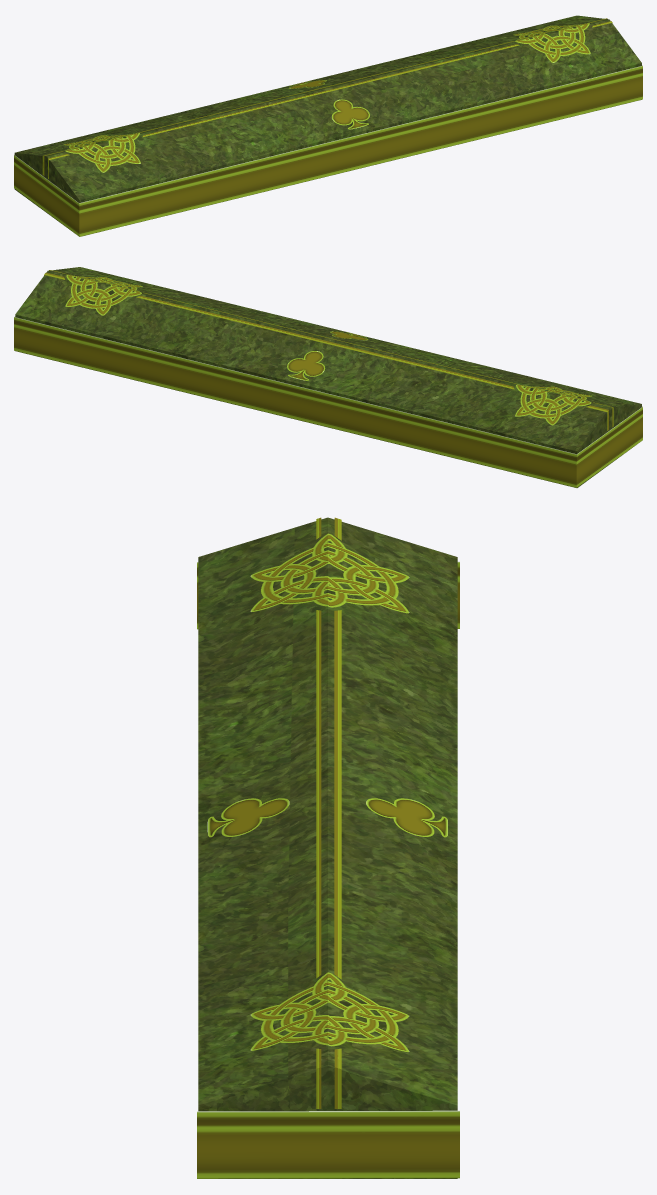
File: mountain_floor_teeth.gltf
3 views of the same model, one above another, from view 1: azimuth 30°, elevation 25°; view 2: azimuth 150°, elevation 25°; view 3: azimuth 270°, elevation 25° (orthographic). The views are drawn at different scales.
Parts seen in each view (by area): view 1: mountain_floor_teeth_glb; view 2: mountain_floor_teeth_glb; view 3: mountain_floor_teeth_glb.
Boxes of the visible parts, x1=… form: mountain_floor_teeth_glb: x1=14, y1=15, x2=642, y2=236; mountain_floor_teeth_glb: x1=14, y1=267, x2=642, y2=487; mountain_floor_teeth_glb: x1=197, y1=517, x2=459, y2=1178.
Size of what is drawn, in the model's own units: 4.01 by 0.3927 by 0.8116.
Materials: 2 (2 with a texture image).
